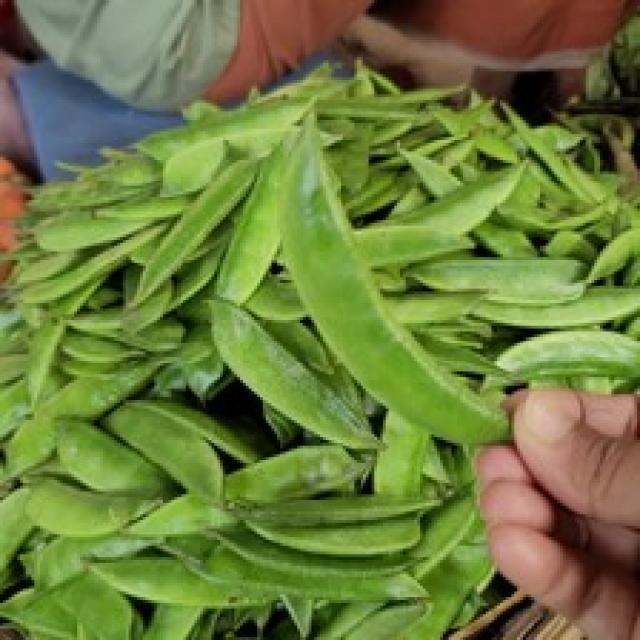Bean: (0, 54, 637, 637)
